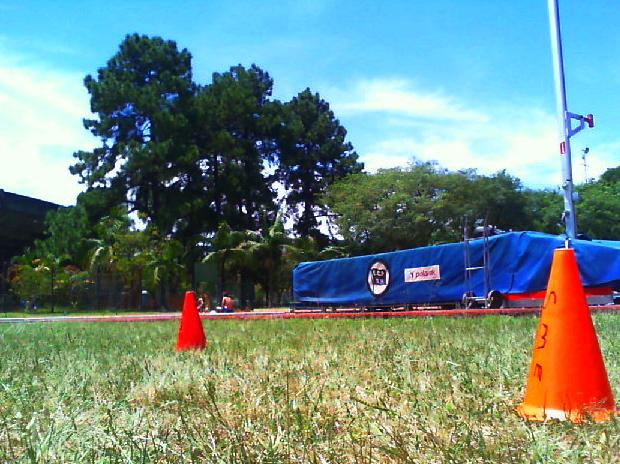0 cone: (516, 249, 619, 424), (173, 291, 207, 350)
